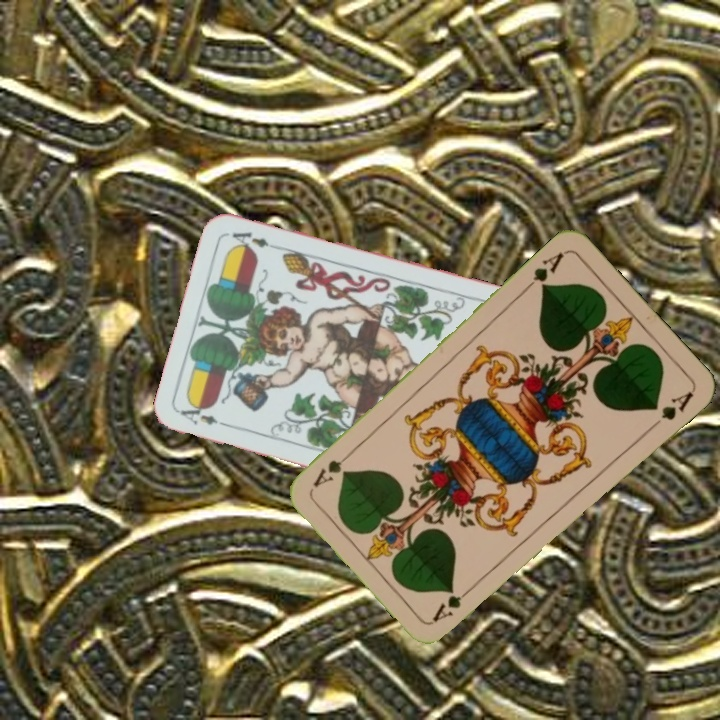EA: (176, 399, 234, 430)
GA: (428, 580, 478, 625), (521, 247, 567, 294)
